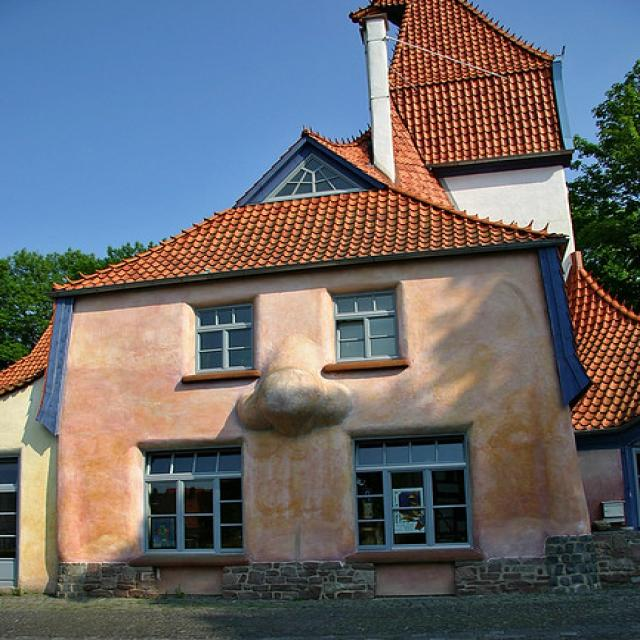Normal_building: (0, 7, 640, 609)
